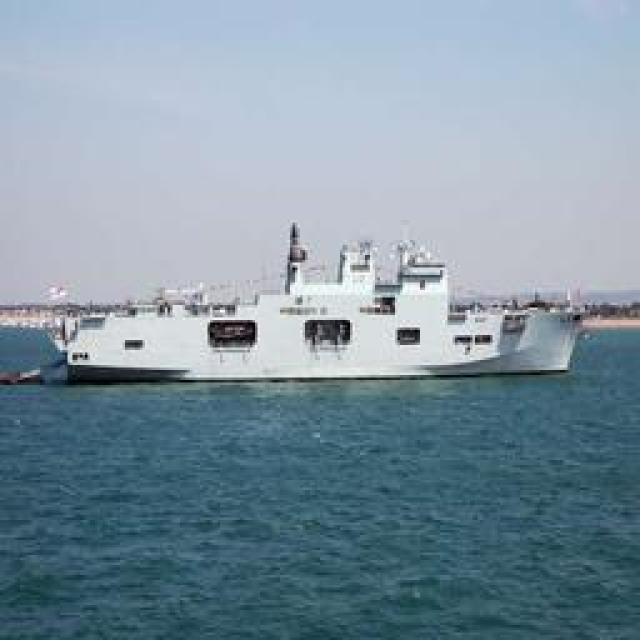CIV_Ship: (39, 218, 592, 388)
